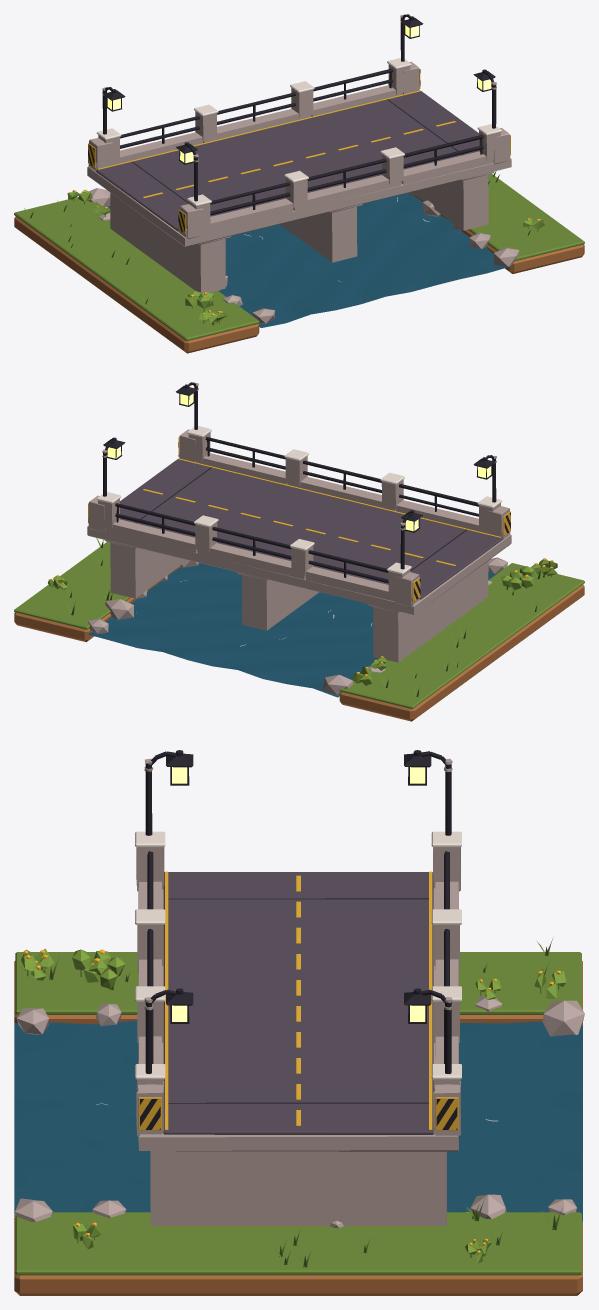
The picture shows the model from 3 angles, top to bottom: view 1: azimuth 30°, elevation 25°; view 2: azimuth 150°, elevation 25°; view 3: azimuth 270°, elevation 25°; orthographic projection. The views are drawn at different scales.
Visible parts, largest first — view 1: body_pal_sidewalk, body_pal_asphalt, body_pal_backpackTeal, body_pal_grass, body_pal_uiDark, body_pal_woodWarm, body_pal_picketWhite, body_pal_schoolBusYellow, body_pal_foliage; view 2: body_pal_sidewalk, body_pal_asphalt, body_pal_backpackTeal, body_pal_grass, body_pal_uiDark, body_pal_woodWarm, body_pal_picketWhite, body_pal_schoolBusYellow, body_pal_foliage; view 3: body_pal_asphalt, body_pal_backpackTeal, body_pal_grass, body_pal_sidewalk, body_pal_woodWarm, body_pal_uiDark, body_pal_schoolBusYellow, body_pal_picketWhite, body_pal_foliage.
Part boxes in pixels (bbox=[...]): body_pal_sidewalk: bbox=[87, 14, 519, 323]; body_pal_asphalt: bbox=[96, 91, 478, 231]; body_pal_backpackTeal: bbox=[107, 192, 510, 327]; body_pal_grass: bbox=[14, 171, 584, 340]; body_pal_uiDark: bbox=[88, 14, 496, 232]; body_pal_woodWarm: bbox=[14, 196, 584, 353]; body_pal_picketWhite: bbox=[96, 58, 502, 282]; body_pal_schoolBusYellow: bbox=[72, 68, 540, 316]; body_pal_foliage: bbox=[67, 190, 544, 324]; body_pal_sidewalk: bbox=[87, 383, 511, 695]; body_pal_asphalt: bbox=[120, 459, 502, 599]; body_pal_backpackTeal: bbox=[88, 563, 496, 697]; body_pal_grass: bbox=[14, 538, 584, 709]; body_pal_uiDark: bbox=[103, 382, 510, 601]; body_pal_woodWarm: bbox=[14, 566, 584, 721]; body_pal_picketWhite: bbox=[96, 426, 502, 646]; body_pal_schoolBusYellow: bbox=[50, 436, 553, 676]; body_pal_foliage: bbox=[48, 558, 557, 685]; body_pal_asphalt: bbox=[163, 872, 433, 1134]; body_pal_backpackTeal: bbox=[14, 1020, 582, 1221]; body_pal_grass: bbox=[15, 939, 581, 1275]; body_pal_sidewalk: bbox=[14, 758, 584, 1227]; body_pal_woodWarm: bbox=[14, 961, 582, 1295]; body_pal_uiDark: bbox=[140, 751, 457, 1129]; body_pal_schoolBusYellow: bbox=[23, 871, 561, 1253]; body_pal_picketWhite: bbox=[96, 831, 497, 1212]; body_pal_foliage: bbox=[21, 948, 566, 1263].
Size of the model in its own units: 16.07 by 6.23 by 12.05.
